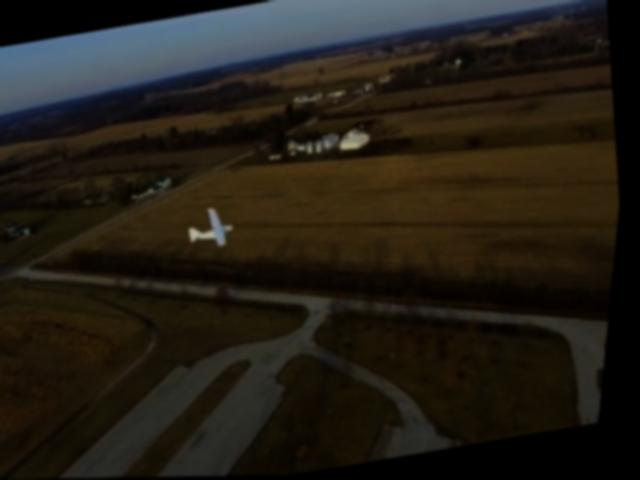uav: (179, 189, 255, 264)
